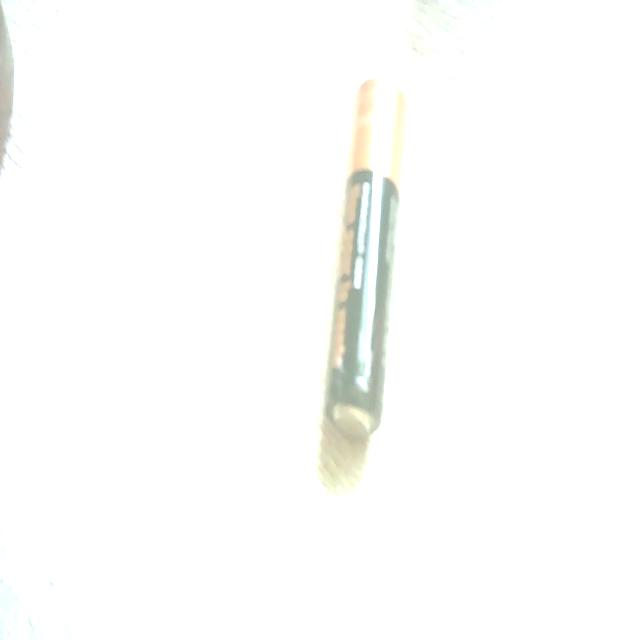AA: (323, 75, 408, 441)
